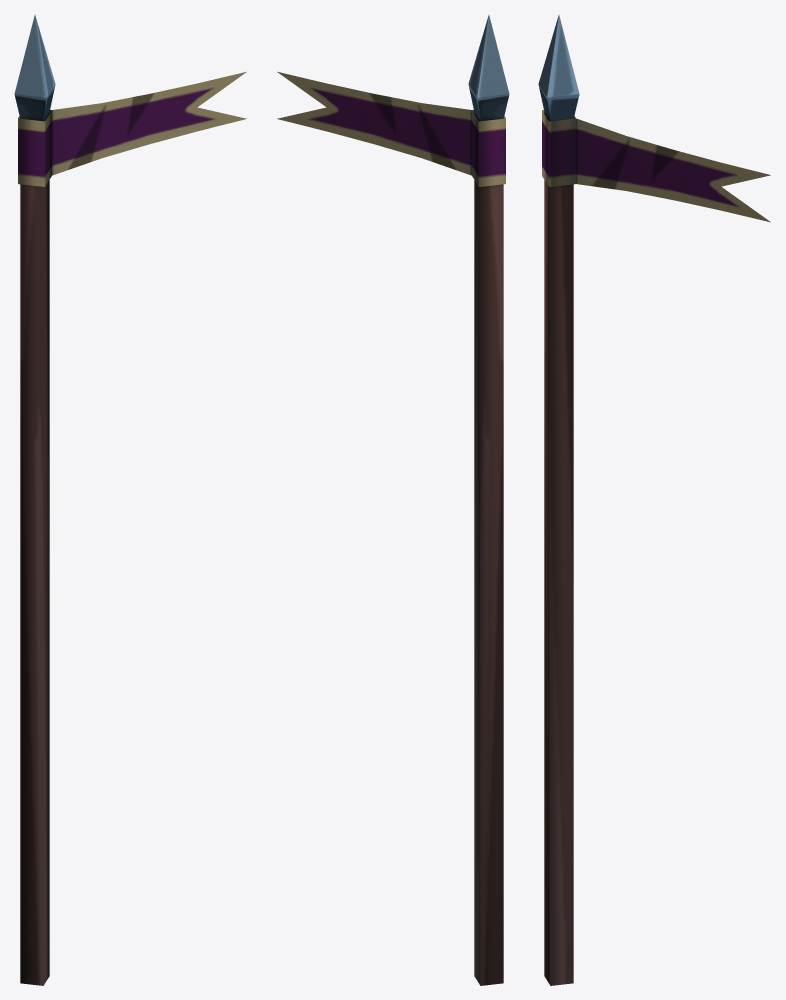
Rendered from arena_2.FBX.
3 renders of one model, left to right at view 1: azimuth 30°, elevation 25°; view 2: azimuth 150°, elevation 25°; view 3: azimuth 330°, elevation 25°, orthographic.
Parts seen in each view (by area): view 1: Cylinder001; view 2: Cylinder001; view 3: Cylinder001.
Part boxes in pixels (box(x1,y1,x2,y2)): Cylinder001: box(14, 15, 246, 985); Cylinder001: box(277, 15, 509, 985); Cylinder001: box(538, 15, 770, 985).
Size of the model in its own units: 166 by 657 by 29.25.
